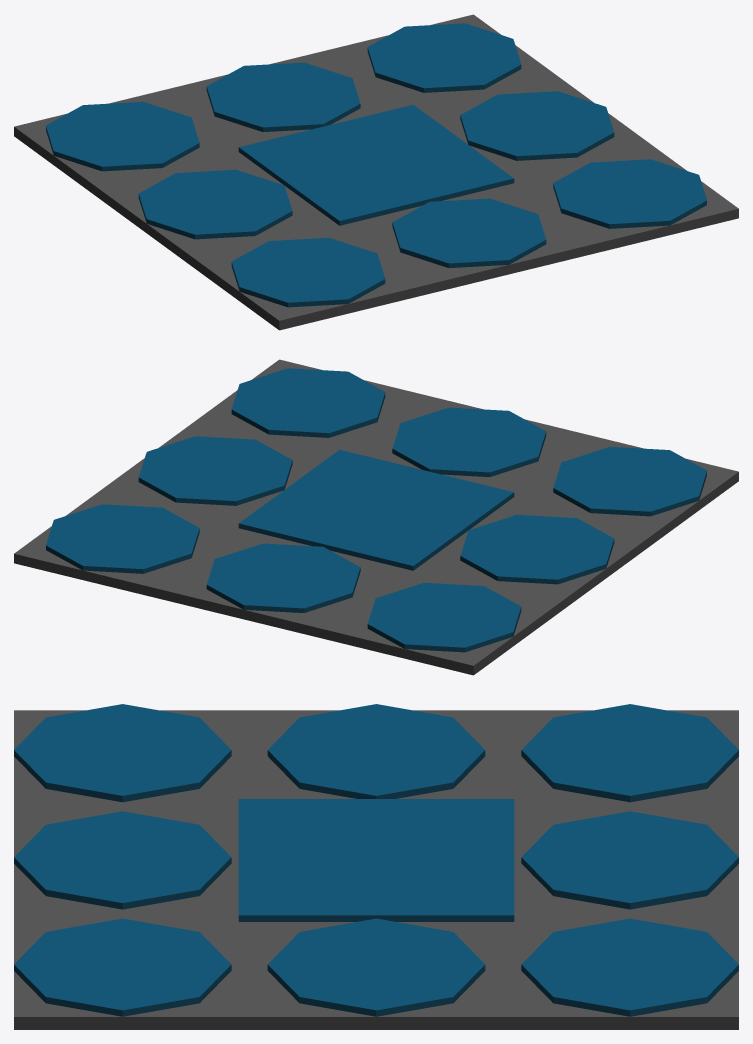
The model's file is floor_type_05.fbx.
3 renders of one model, top to bottom at view 1: azimuth 30°, elevation 25°; view 2: azimuth 150°, elevation 25°; view 3: azimuth 270°, elevation 25°, orthographic. The views are drawn at different scales.
Parts seen in each view (by area): view 1: floor_type_05; view 2: floor_type_05; view 3: floor_type_05.
Boxes of the visible parts, left/top/right/bottom form: floor_type_05: left=14, top=14, right=738, bottom=330; floor_type_05: left=14, top=359, right=738, bottom=675; floor_type_05: left=14, top=704, right=738, bottom=1029.
Size of the model in its own units: 200 by 6 by 200.
